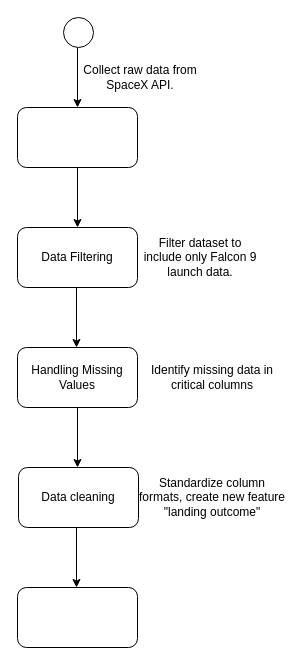
The diagram is 305 pixels wide and 665 high, and some of its shapes have lost their labels. Each missing label, with the centre of its shape:
Data collection: (77,137)
Final cleaned dataset: (77,617)
